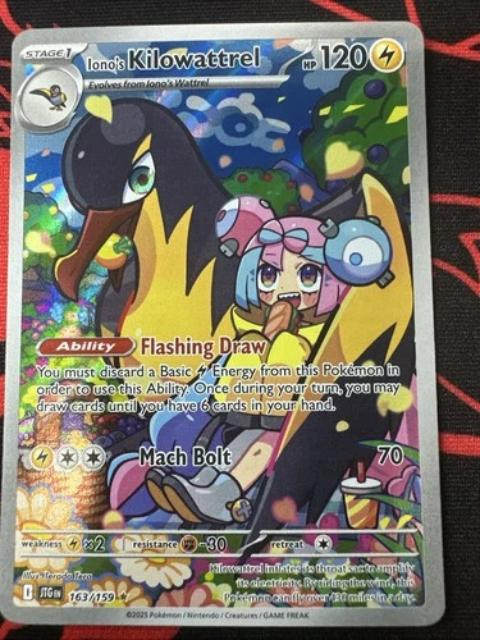Card: (0, 17, 452, 632)
Name: (81, 40, 268, 77)
